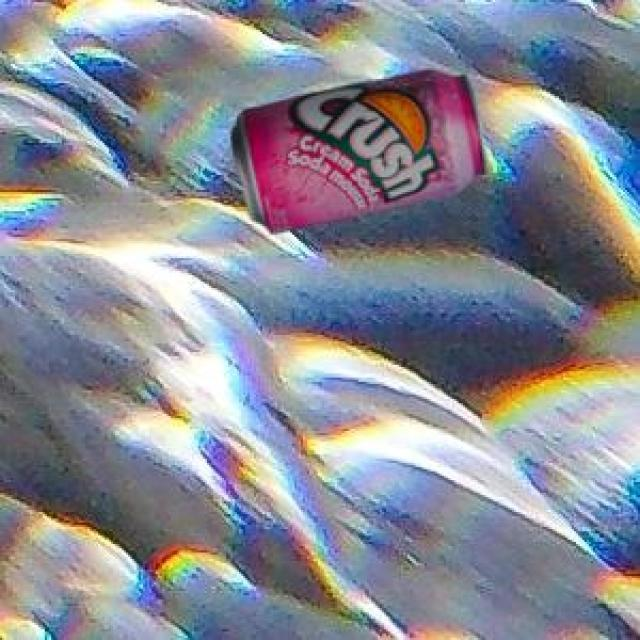Can: (229, 67, 483, 229)
